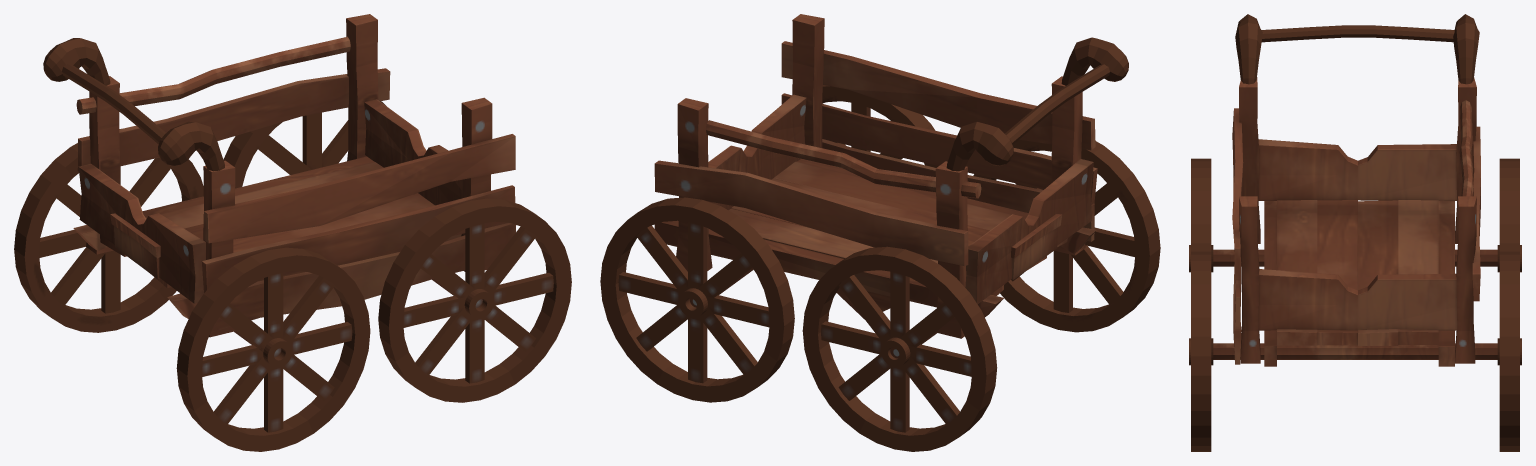
The model's file is Villagecart.fbx.
3 renders of one model, left to right at view 1: azimuth 30°, elevation 25°; view 2: azimuth 150°, elevation 25°; view 3: azimuth 270°, elevation 25°, orthographic. The views are drawn at different scales.
Visible parts, largest first — view 1: VillageCart; view 2: VillageCart; view 3: VillageCart.
Part boxes in pixels (x1=…): VillageCart: x1=14, y1=14, x2=571, y2=451; VillageCart: x1=600, y1=14, x2=1160, y2=451; VillageCart: x1=1189, y1=14, x2=1521, y2=451.
Size of the model in its own units: 40.08 by 31.71 by 31.69.
Materials: 1 (1 with a texture image).
